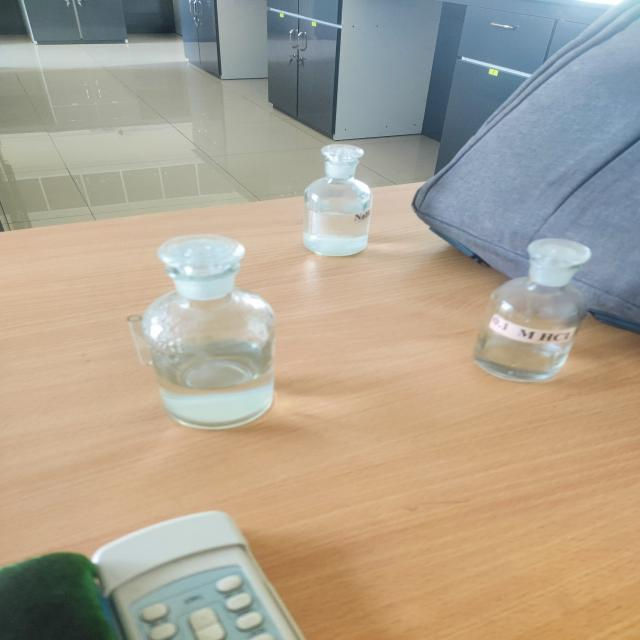Reagent_Bottle: (100, 221, 312, 449), (461, 213, 615, 402), (282, 133, 408, 269)
